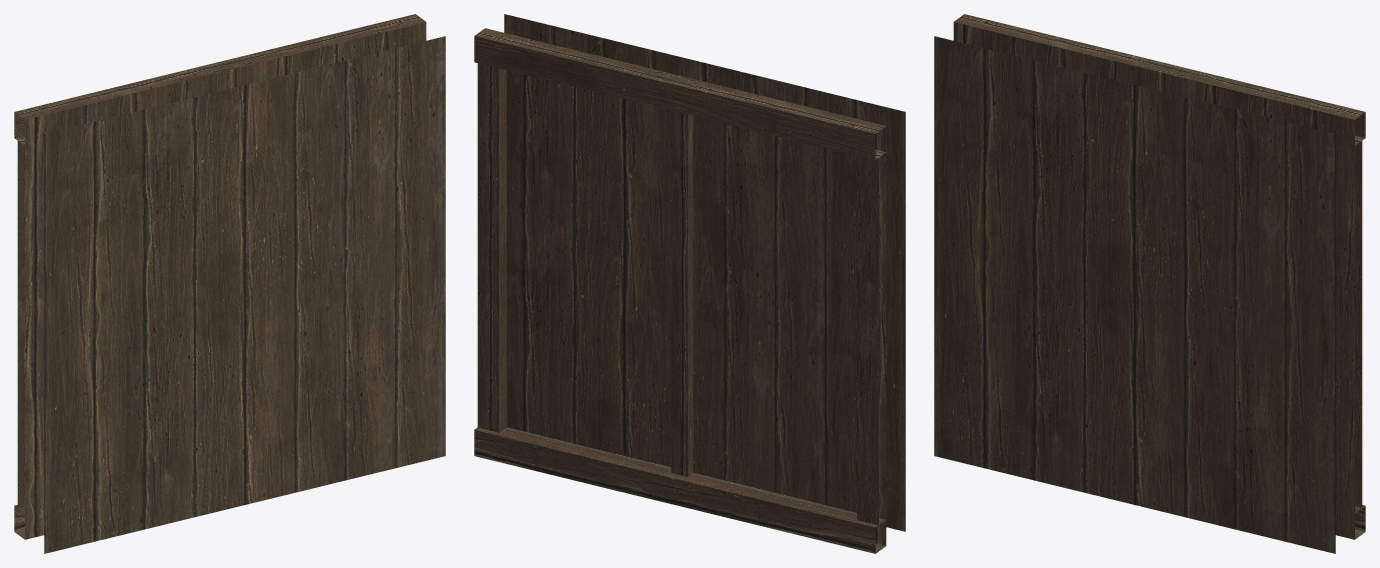
The model's file is ARC1010274.fbx.
The picture shows the model from 3 angles, left to right: view 1: azimuth 30°, elevation 25°; view 2: azimuth 150°, elevation 25°; view 3: azimuth 330°, elevation 25°; orthographic projection.
Parts seen in each view (by area): view 1: smARC1010274; view 2: smARC1010274; view 3: smARC1010274.
Part boxes in pixels (<box>): smARC1010274: <box>14,14,445,553</box>; smARC1010274: <box>474,14,905,553</box>; smARC1010274: <box>934,14,1365,553</box>.
Bounding box in the file's own units: 268 × 268 × 34.9.
Materials: 1 (1 with a texture image).
